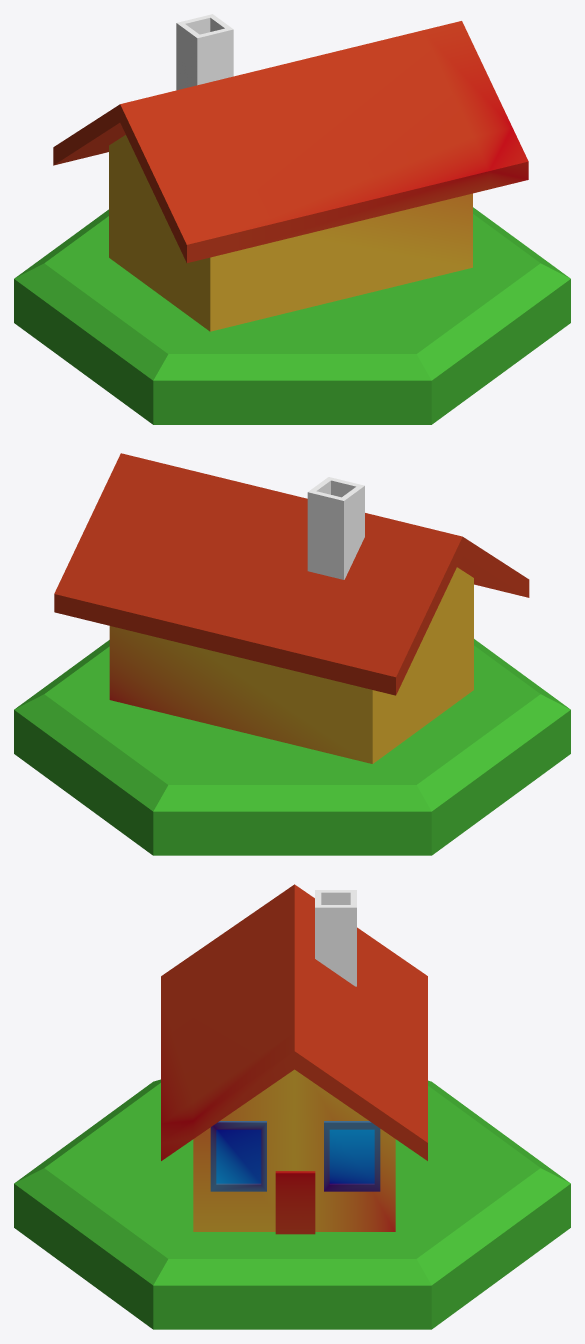
Rendered from tile_beveled_with_dwe_house.fbx.
3 views of the same model, one above another, from view 1: azimuth 30°, elevation 25°; view 2: azimuth 150°, elevation 25°; view 3: azimuth 270°, elevation 25° (orthographic).
Visible parts, largest first — view 1: Cube, Cylinder; view 2: Cube, Cylinder; view 3: Cube, Cylinder.
Part boxes in pixels (x1,y1,x2,y2): Cube: [53, 14, 528, 331]; Cylinder: [14, 207, 570, 424]; Cube: [54, 453, 529, 763]; Cylinder: [14, 639, 570, 855]; Cube: [161, 884, 427, 1234]; Cylinder: [14, 1079, 570, 1329].
Size of the model in its own units: 16.93 by 11.5 by 19.55.
